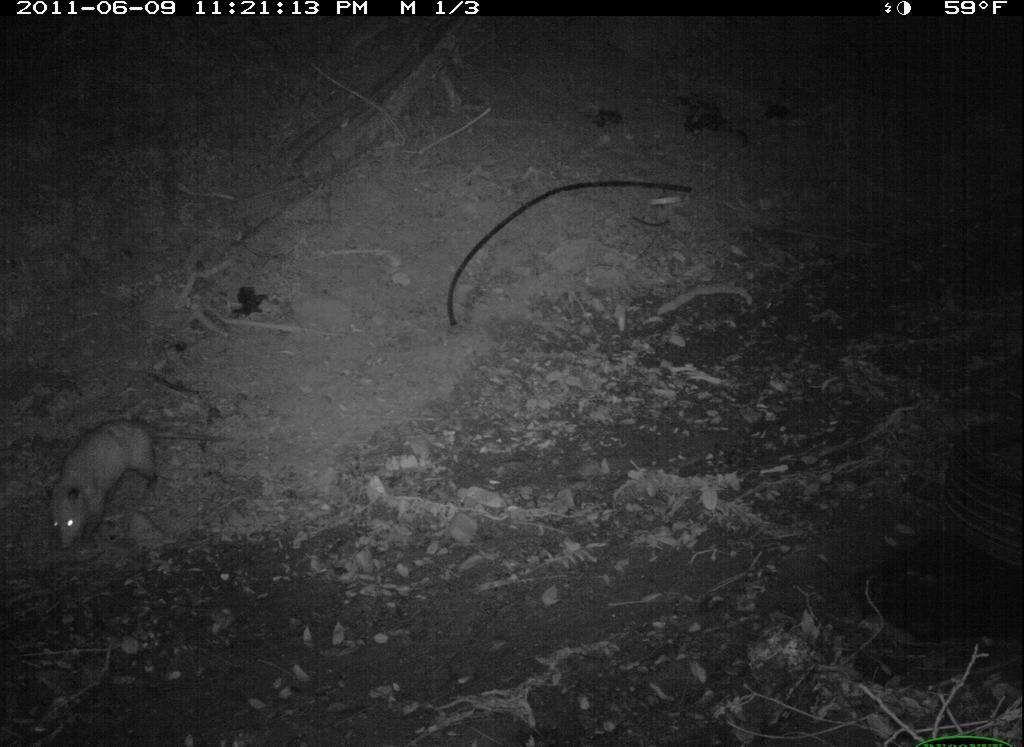opossum: (47, 413, 239, 555)
